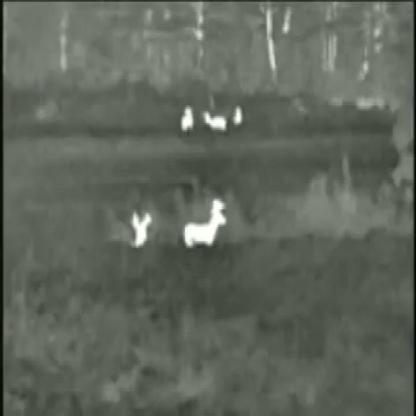rehkitze: (179, 197, 227, 250), (124, 207, 150, 252)
